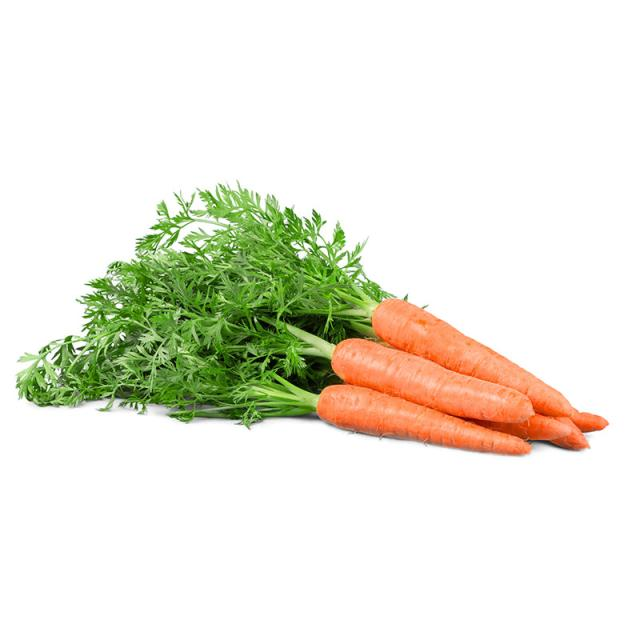Carrot: (307, 386, 534, 454)
